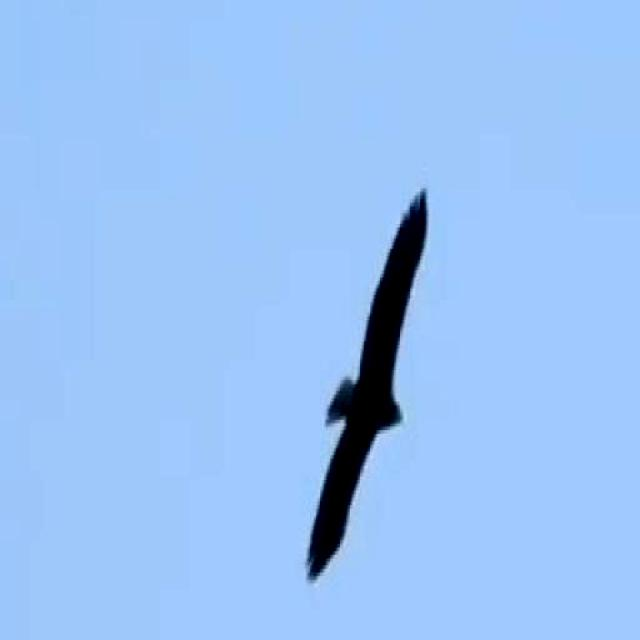airplane: (299, 166, 435, 606)
